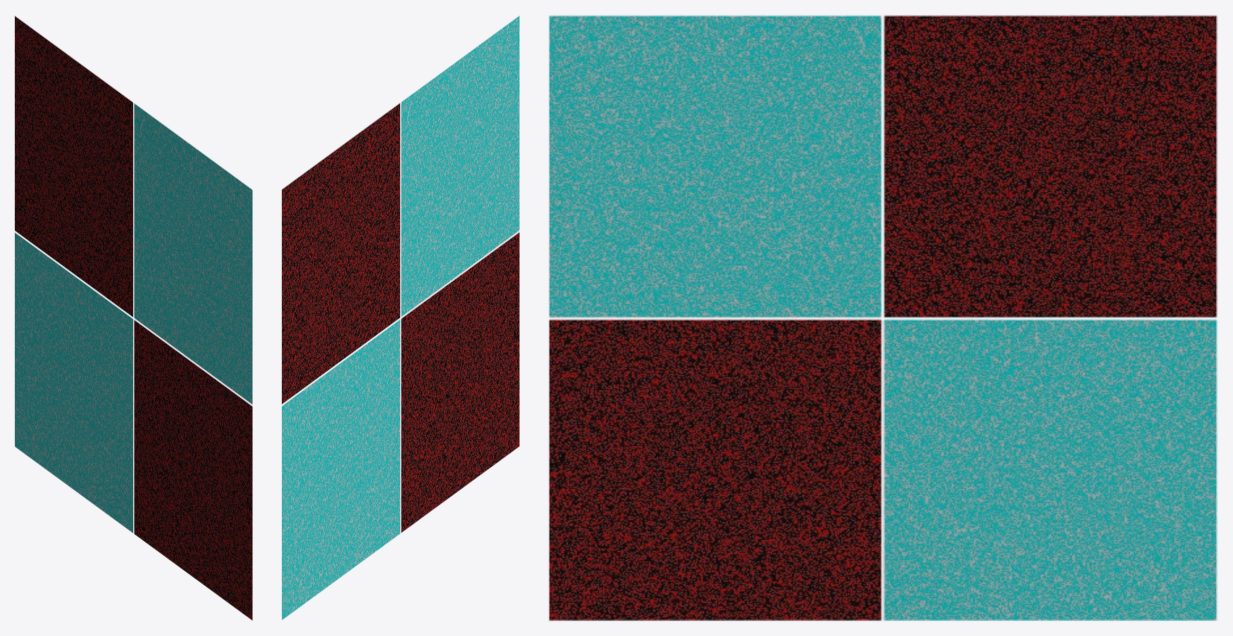
3 renders of one model, left to right at view 1: azimuth 30°, elevation 25°; view 2: azimuth 150°, elevation 25°; view 3: azimuth 270°, elevation 25°, orthographic. The views are drawn at different scales.
Visible parts, largest first — view 1: SM_VFX_LowPolyRock_LOD0; view 2: SM_VFX_LowPolyRock_LOD0; view 3: SM_VFX_LowPolyRock_LOD0.
Boxes of the visible parts, box(x1,y1,x2,y2) form: SM_VFX_LowPolyRock_LOD0: box(14, 16, 252, 620); SM_VFX_LowPolyRock_LOD0: box(281, 16, 519, 619); SM_VFX_LowPolyRock_LOD0: box(549, 15, 1217, 620).
Size of the model in its own units: 0 by 0.01 by 0.01.
